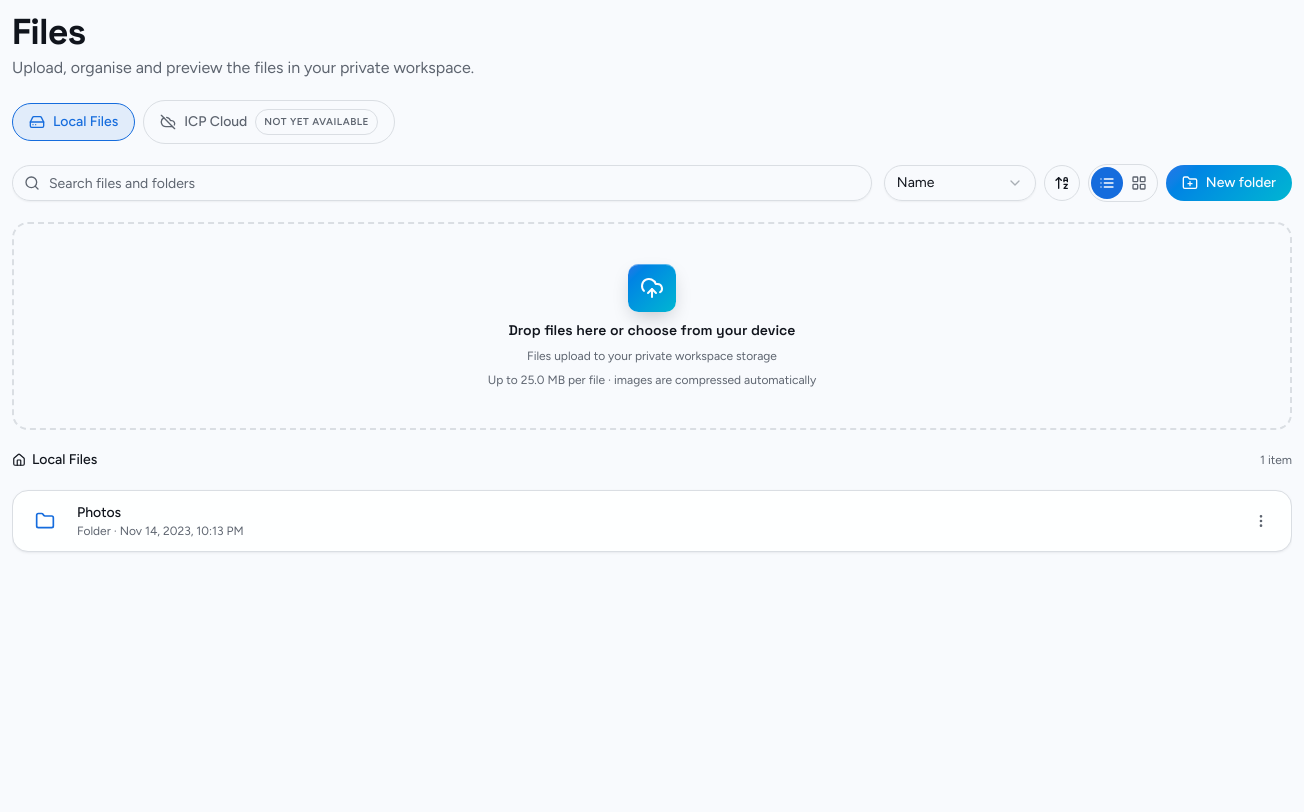
Test: Files listing baseline › lists a folder and opens it
Expected: the text "Photos" is shown, [77,504,121,521]
Step 1. Click the button with test id "files.open_folder_button.1" → (99, 512), box [77,503,1231,539]
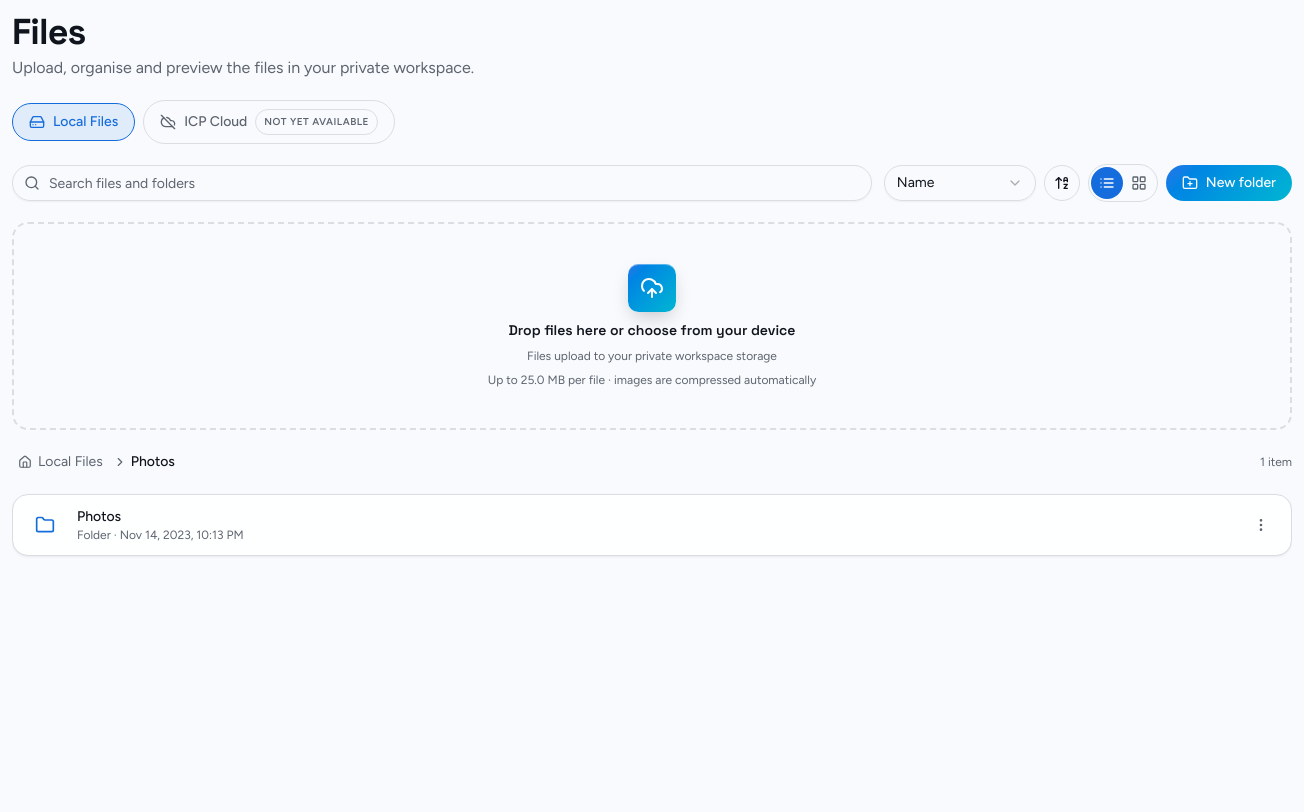
Expected: the navigation bar with test id "files.breadcrumb" shows "Photos", [131,453,175,470]
